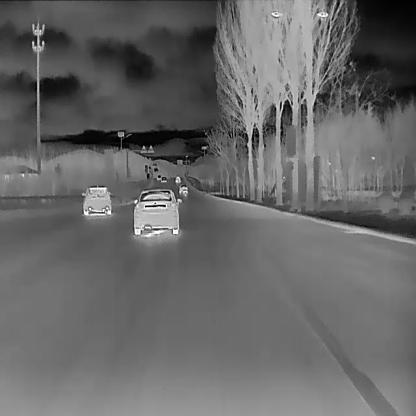car: (132, 186, 181, 235), (80, 183, 111, 214), (178, 182, 187, 193), (174, 174, 180, 184), (160, 176, 166, 182), (156, 173, 160, 180)
